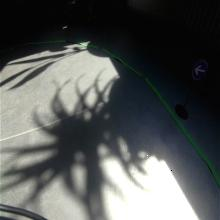left: (191, 59, 209, 82)
